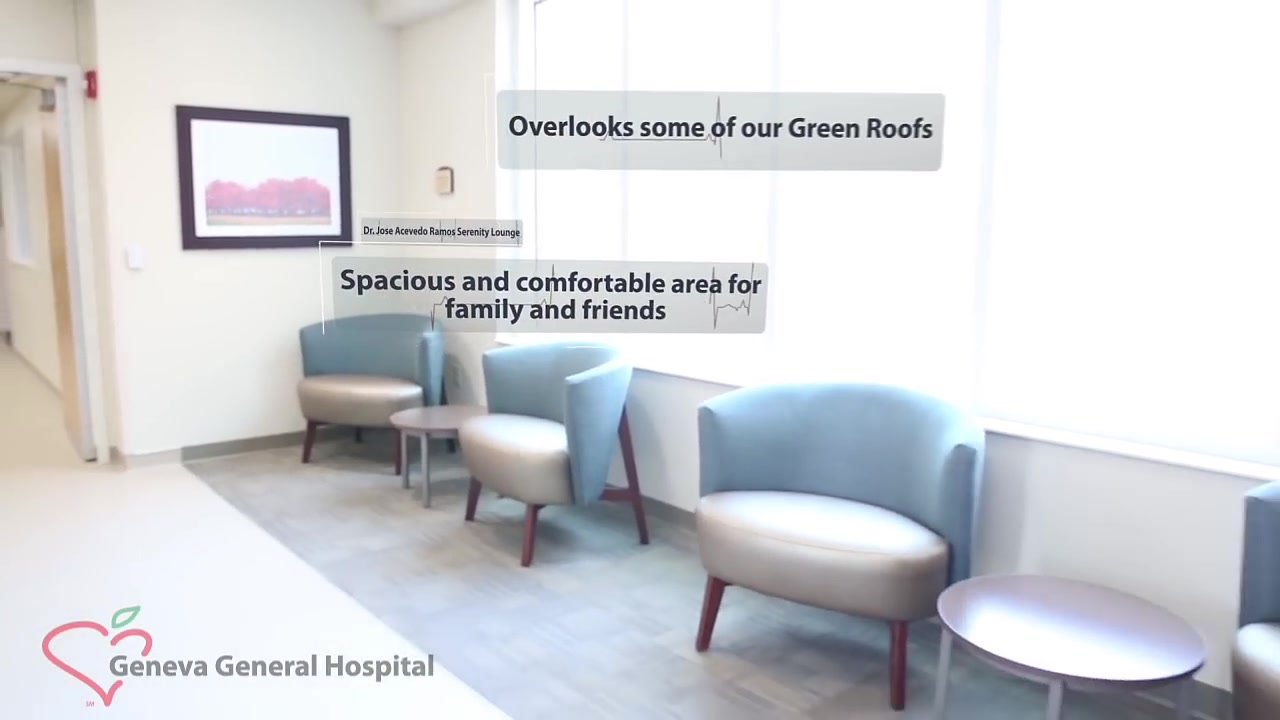sofa: (695, 375, 987, 712), (458, 341, 650, 568), (299, 313, 457, 485), (1231, 480, 1280, 720)
table: (940, 574, 1208, 720), (391, 402, 489, 511)
